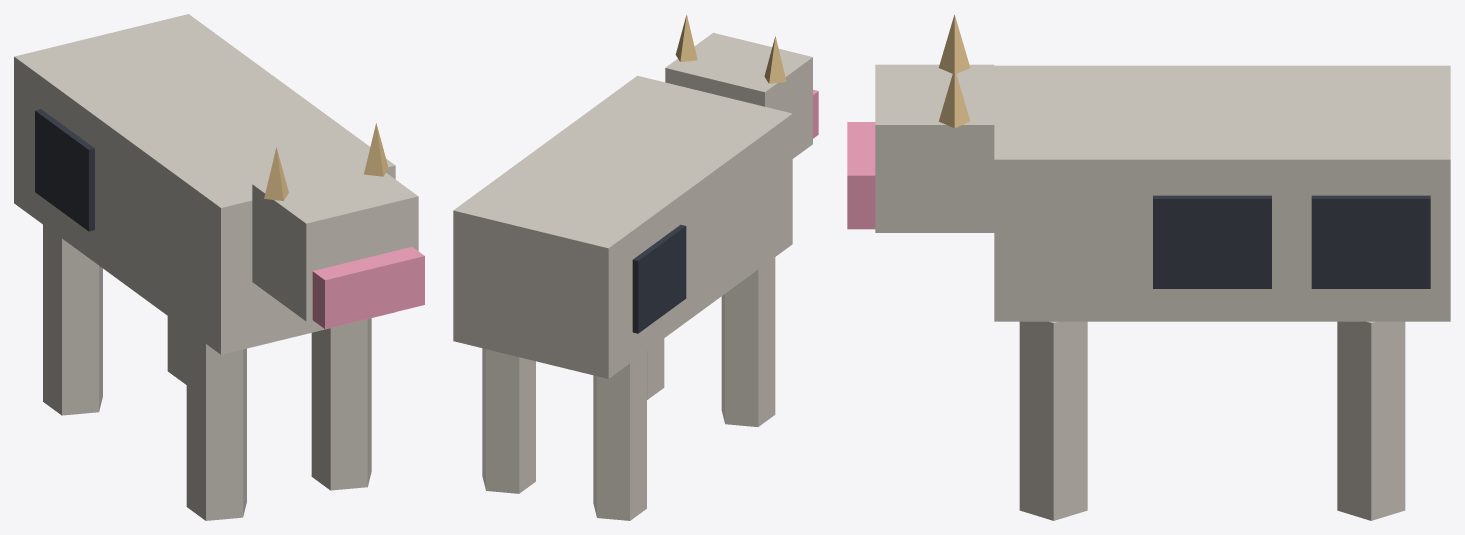
Rendered from animal_cow.glb.
3 views of the same model, side by side, from view 1: azimuth 30°, elevation 25°; view 2: azimuth 150°, elevation 25°; view 3: azimuth 270°, elevation 25° (orthographic). The views are drawn at different scales.
Visible parts, largest first — view 1: animal_cow; view 2: animal_cow; view 3: animal_cow.
Boxes of the visible parts, x1,y1,x2,y2 form: animal_cow: (14,14,424,520); animal_cow: (453,14,818,520); animal_cow: (847,14,1450,520).
Bounding box in the file's own units: 0.06 × 0.12 × 0.152.
